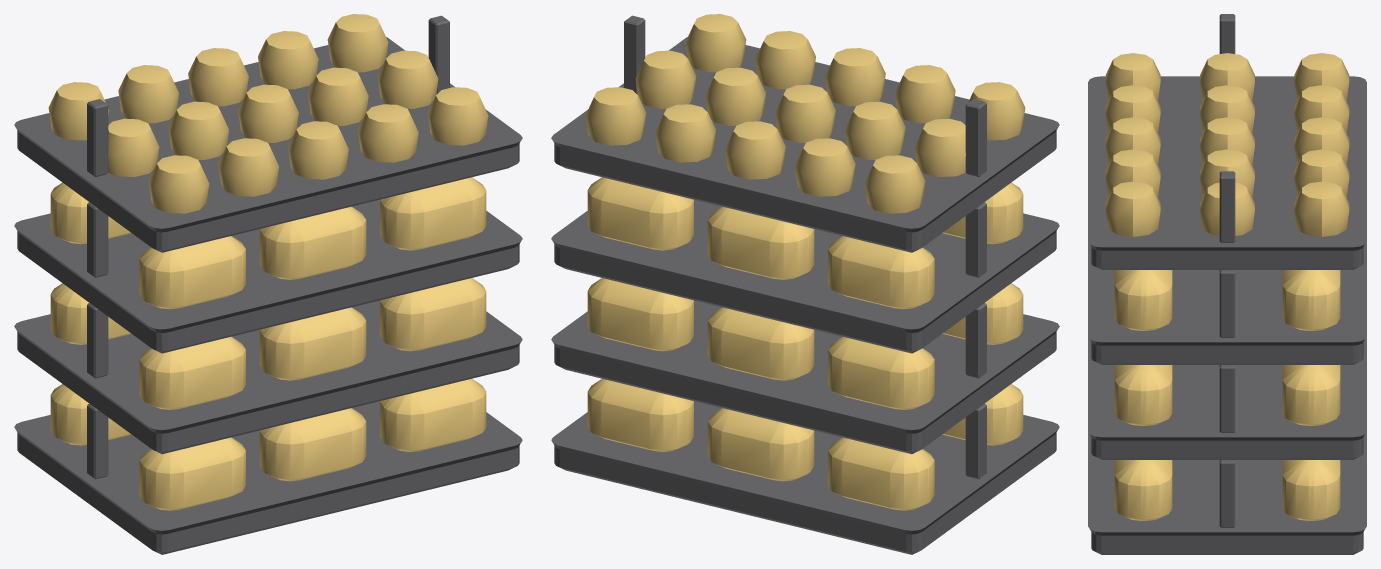
Rendered from indoor-market-hall-and-traders-bakery-tray-set-13f8fc39.glb.
The picture shows the model from 3 angles, left to right: view 1: azimuth 30°, elevation 25°; view 2: azimuth 150°, elevation 25°; view 3: azimuth 270°, elevation 25°; orthographic projection. The views are drawn at different scales.
Visible parts, largest first — view 1: bakery-tray-set; view 2: bakery-tray-set; view 3: bakery-tray-set.
Boxes of the visible parts, bbox=[...] form: bakery-tray-set: bbox=[14, 14, 522, 554]; bakery-tray-set: bbox=[551, 14, 1059, 554]; bakery-tray-set: bbox=[1088, 14, 1366, 554].
Bounding box in the file's own units: 0.772 × 0.8 × 0.532.
